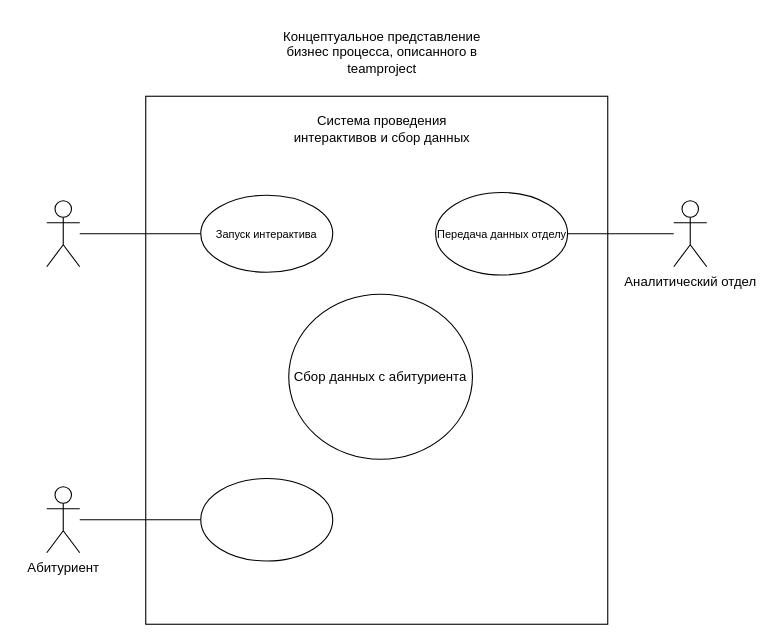
Image size: 776x644. Some labels were removed from this diagram. The shapes that lost their labels are listed below. From the top down, each one's box as (x1, y1, x2, y2) in pixels, then its label:
(46, 200, 80, 267): Выступающий
(200, 477, 333, 561): Прохождение интерактива
